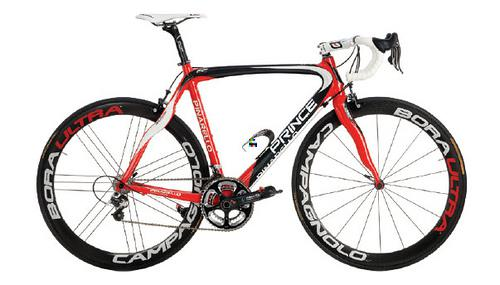car: (37, 15, 469, 272)
